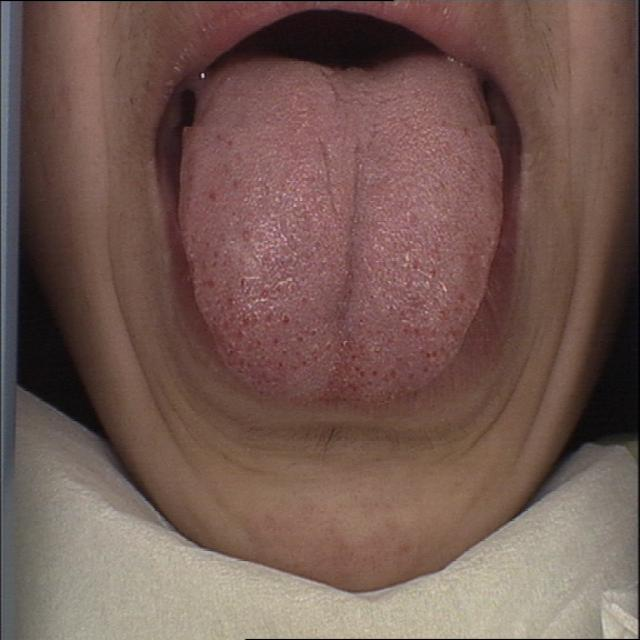tongue: (178, 46, 506, 417)
